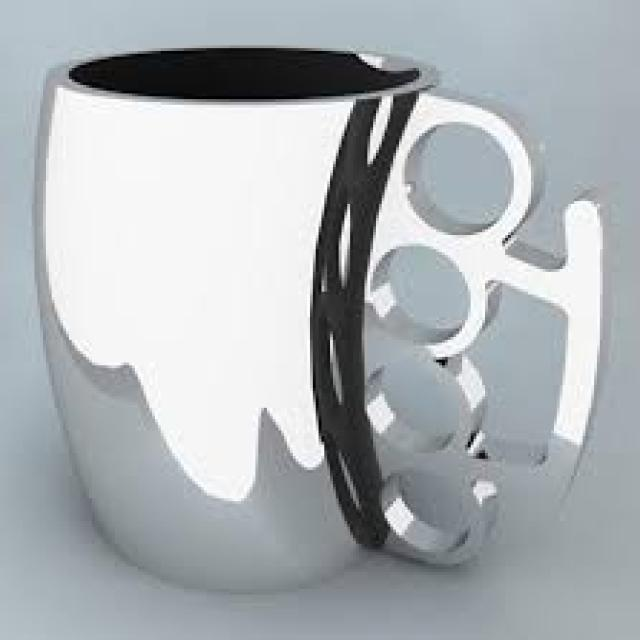taza: (14, 20, 623, 600)
